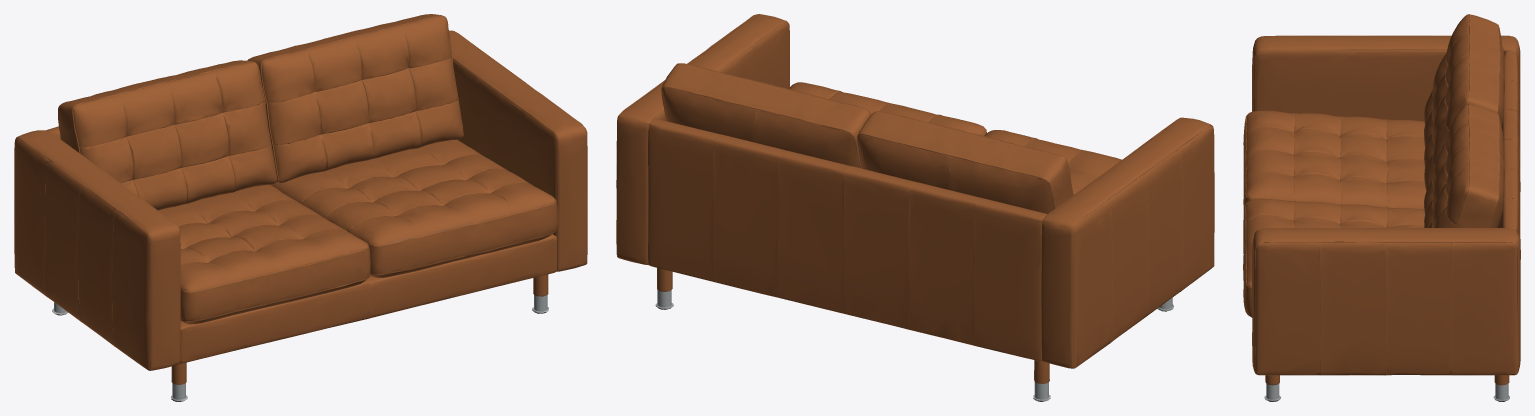
The model's file is 09 - LANDSKRONA 2-seat sofa - GrannBomstad golden-brownmetal.glb.
3 views of the same model, side by side, from view 1: azimuth 30°, elevation 25°; view 2: azimuth 150°, elevation 25°; view 3: azimuth 270°, elevation 25° (orthographic). The views are drawn at different scales.
Parts seen in each view (by area): view 1: Mesh_0; view 2: Mesh_0; view 3: Mesh_0.
Part boxes in pixels (<box>): Mesh_0: <box>14,14,587,401</box>; Mesh_0: <box>616,14,1214,401</box>; Mesh_0: <box>1243,14,1520,401</box>.
Bounding box in the file's own units: 1.65 × 0.7835 × 0.9203.
Materials: 1 (1 with a texture image).
